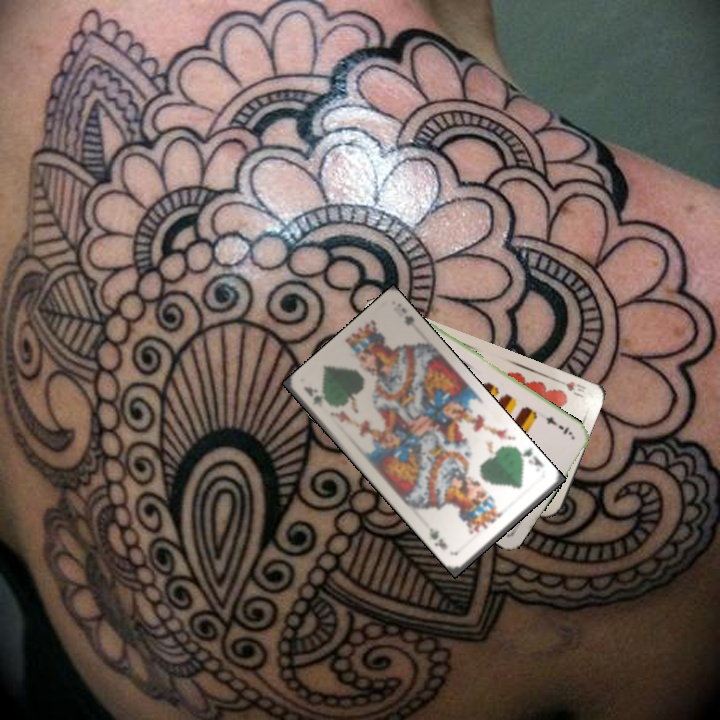E7: (542, 412, 575, 438)
GK: (514, 445, 547, 470), (300, 382, 324, 408)
H10: (553, 375, 589, 400)
